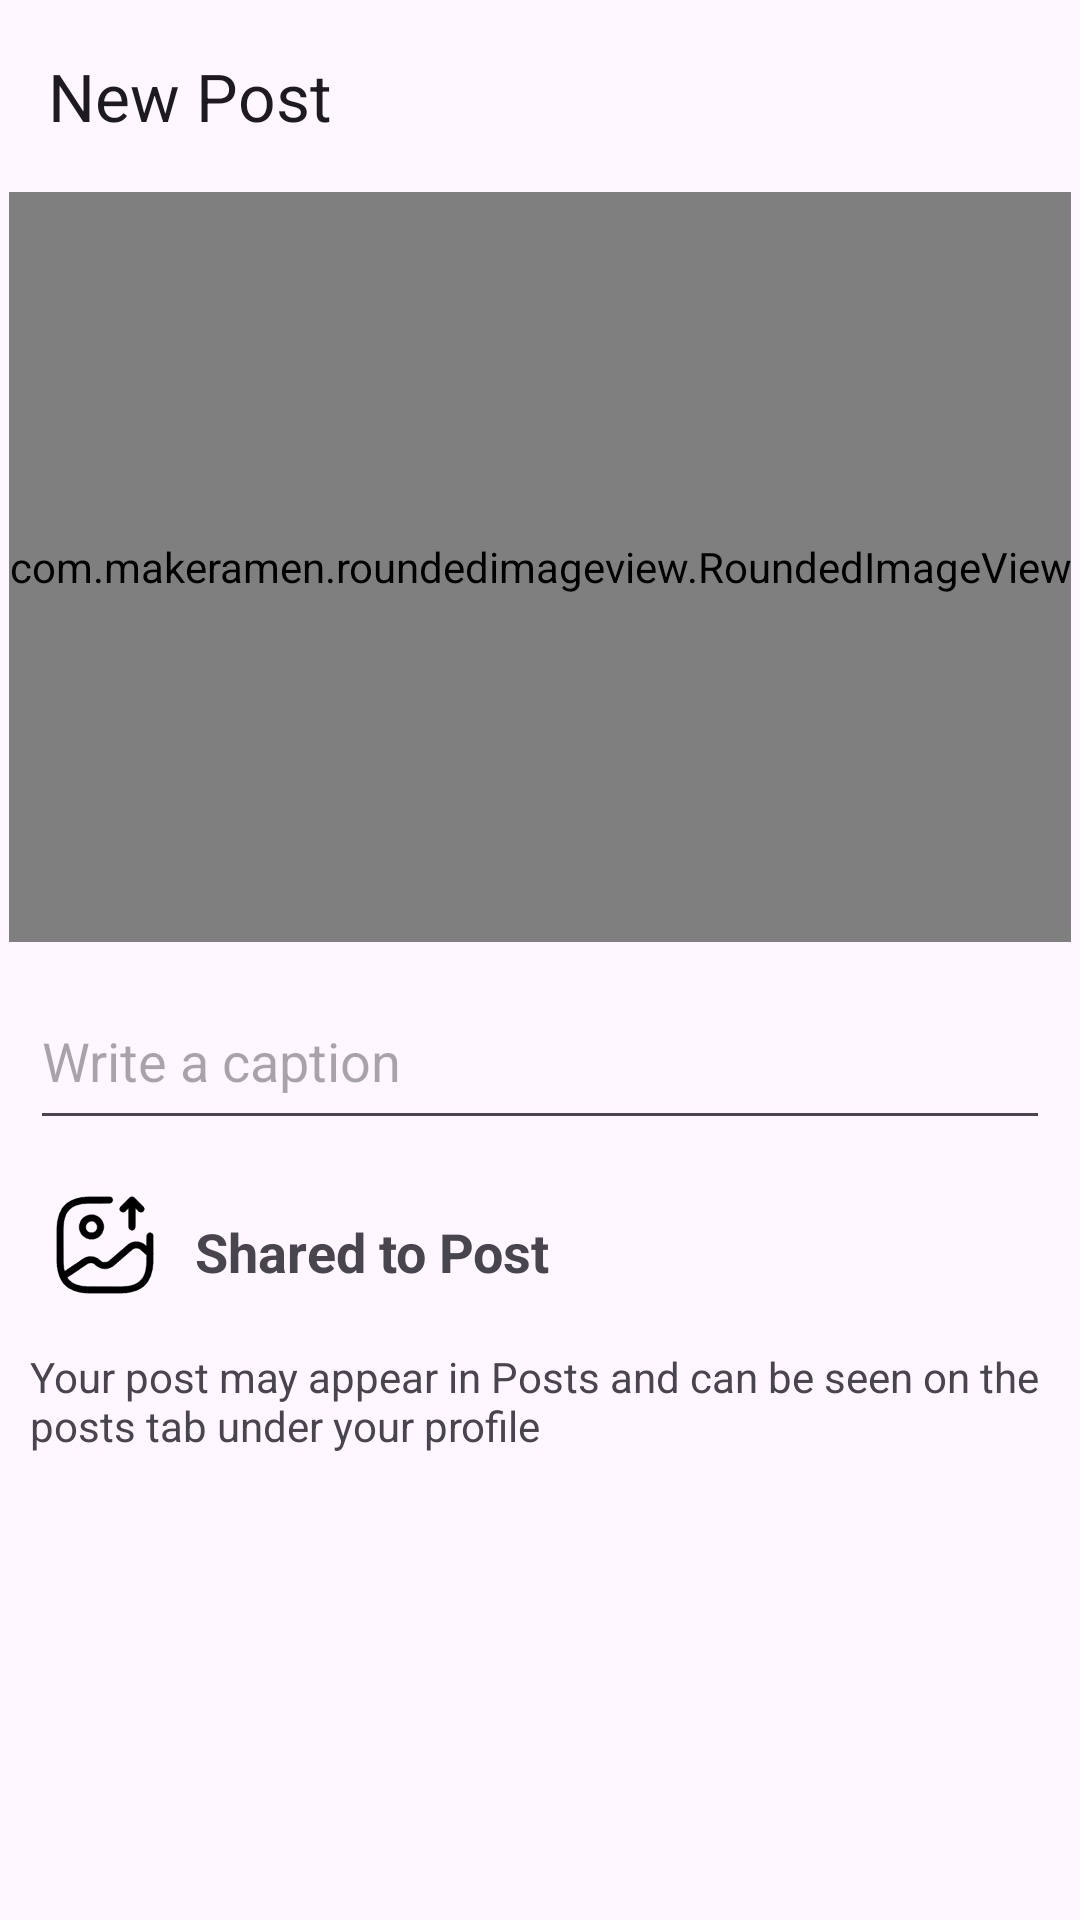

Icons on this 1080×1920 Android screen, each with the point to tap as [x,y]:
post upload: [105,1245]
